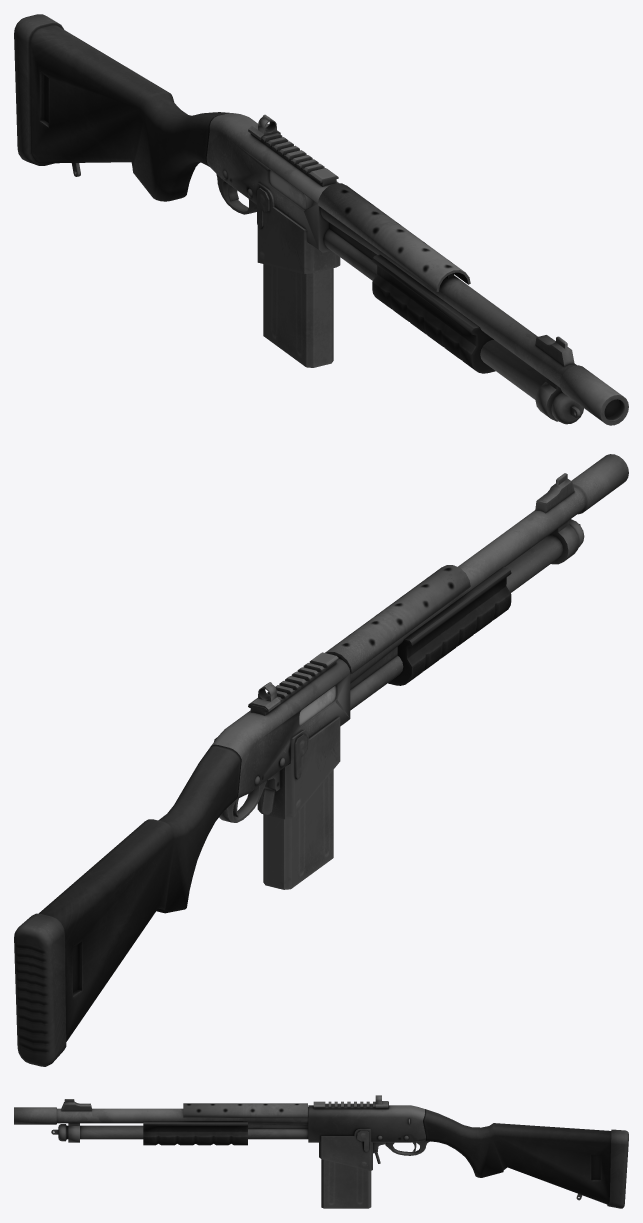
The model's file is Shotgun (fbx).fbx.
The picture shows the model from 3 angles, top to bottom: view 1: azimuth 30°, elevation 25°; view 2: azimuth 150°, elevation 25°; view 3: azimuth 270°, elevation 25°; orthographic projection. The views are drawn at different scales.
Parts seen in each view (by area): view 1: base; view 2: base; view 3: base.
Boxes of the visible parts, x1=… form: base: x1=14, y1=14, x2=628, y2=425; base: x1=14, y1=454, x2=628, y2=1066; base: x1=14, y1=1095, x2=628, y2=1208.
Size of the model in its own units: 0.0443 by 0.2054 by 1.03.
Materials: 1 (1 with a texture image).
